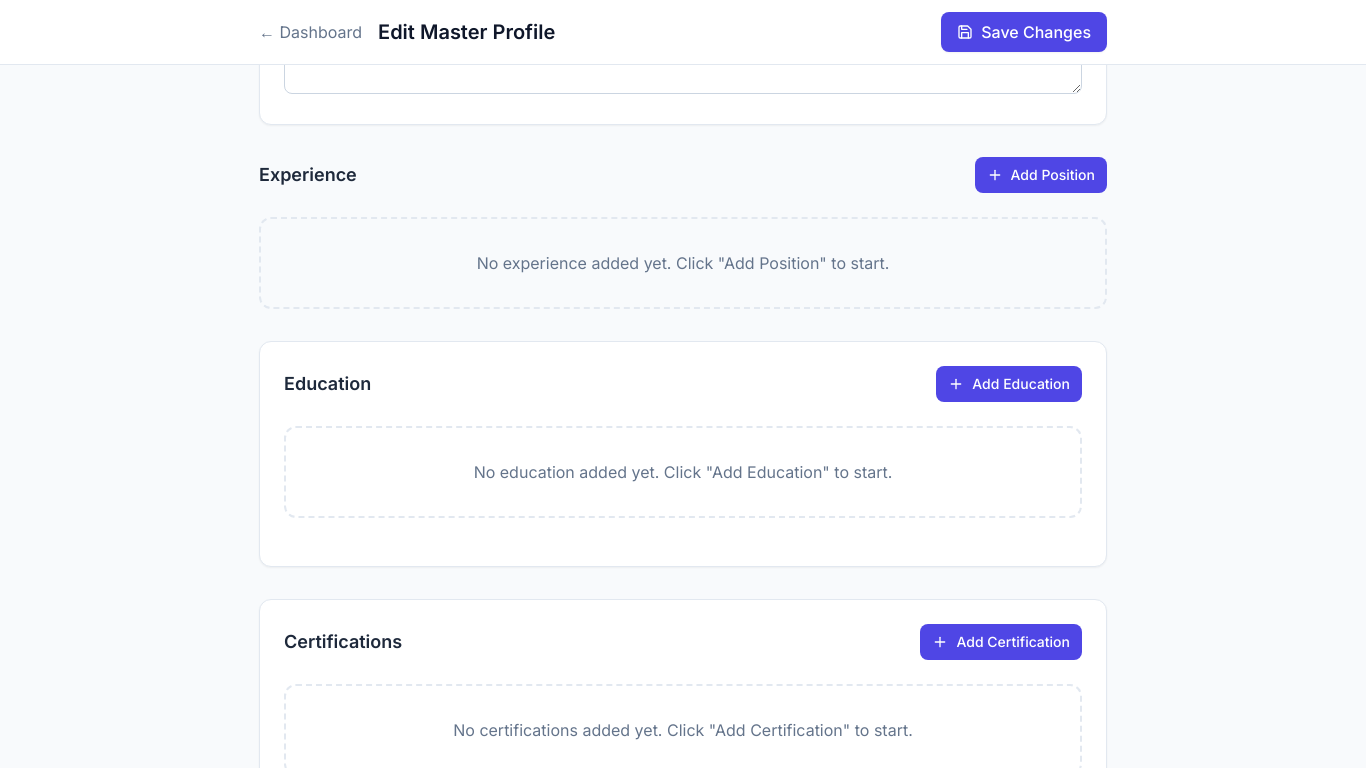
Test: MasterProfilePage › allows adding education entries
(page scrolled)
Click the button "Add Education": (1009, 384) x1=936 y1=366 x2=1082 y2=402
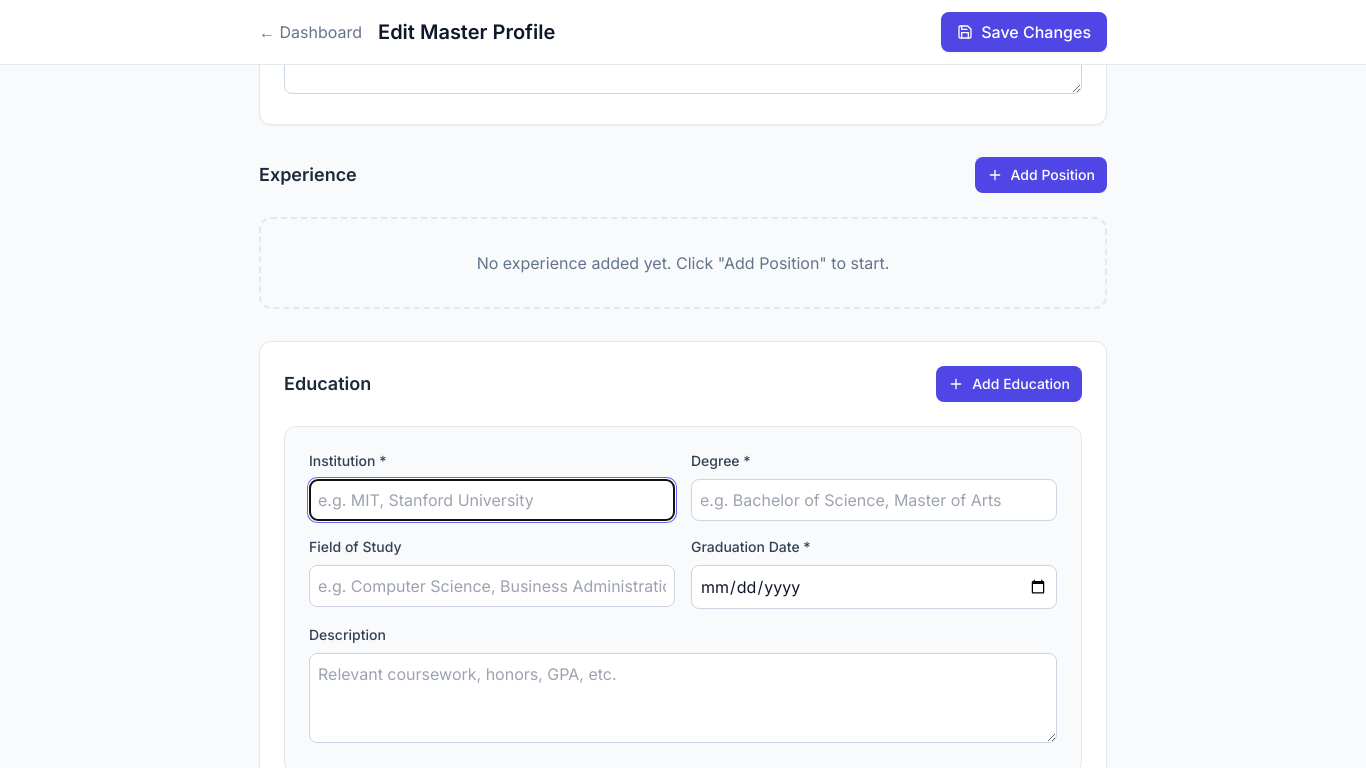
Check: the field with placeholder "e.g. MIT, Stanford University" is shown, box x1=309 y1=479 x2=675 y2=521
